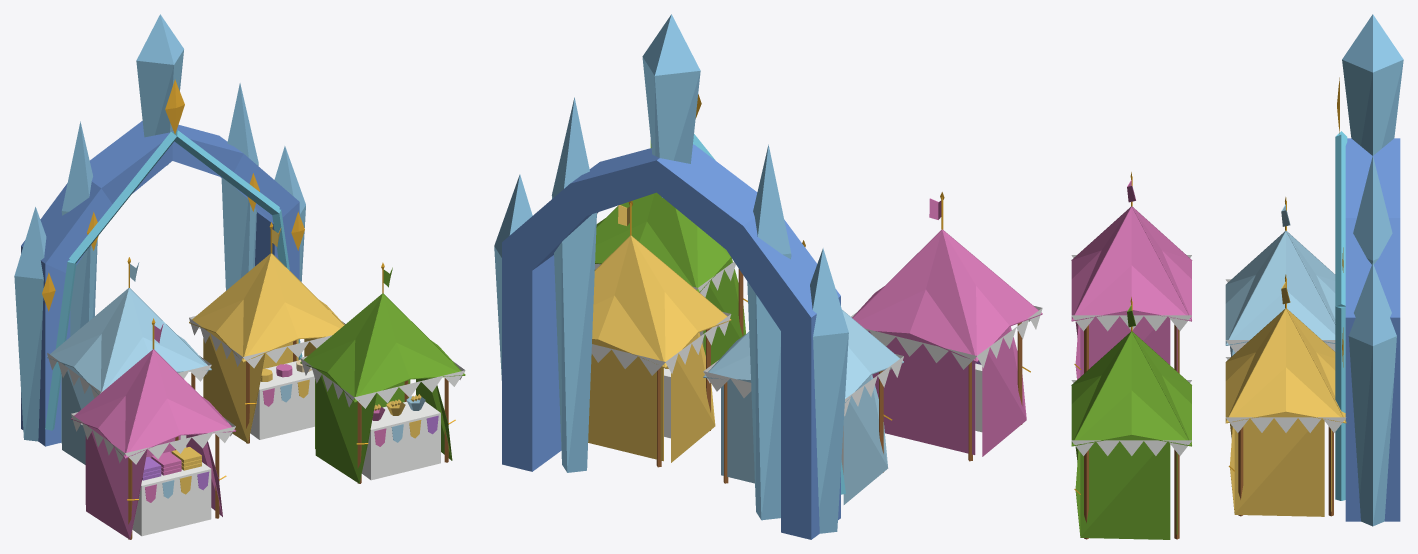
File: building.glb
3 views of the same model, side by side, from view 1: azimuth 30°, elevation 25°; view 2: azimuth 150°, elevation 25°; view 3: azimuth 270°, elevation 25° (orthographic). The views are drawn at different scales.
Visible parts, largest first — view 1: 06_R2B_Faire_IntegratedCrystalGate, 06_R2B_Faire_FoldedTent_0, 06_R2B_Faire_FoldedTent_1, 06_R2B_Faire_FoldedTent_3, 06_R2B_Faire_FoldedTent_2; view 2: 06_R2B_Faire_IntegratedCrystalGate, 06_R2B_Faire_FoldedTent_0, 06_R2B_Faire_FoldedTent_3, 06_R2B_Faire_FoldedTent_2, 06_R2B_Faire_FoldedTent_1; view 3: 06_R2B_Faire_IntegratedCrystalGate, 06_R2B_Faire_FoldedTent_1, 06_R2B_Faire_FoldedTent_3, 06_R2B_Faire_FoldedTent_0, 06_R2B_Faire_FoldedTent_2.
Part boxes in pixels (x1,y1,x2,y2): 06_R2B_Faire_IntegratedCrystalGate: (14, 14, 305, 446); 06_R2B_Faire_FoldedTent_0: (71, 318, 235, 539); 06_R2B_Faire_FoldedTent_1: (300, 262, 465, 483); 06_R2B_Faire_FoldedTent_3: (189, 222, 345, 443); 06_R2B_Faire_FoldedTent_2: (47, 257, 211, 464); 06_R2B_Faire_IntegratedCrystalGate: (494, 14, 848, 539); 06_R2B_Faire_FoldedTent_0: (851, 192, 1042, 461); 06_R2B_Faire_FoldedTent_3: (588, 201, 731, 467); 06_R2B_Faire_FoldedTent_2: (703, 240, 903, 504); 06_R2B_Faire_FoldedTent_1: (594, 140, 747, 365); 06_R2B_Faire_IntegratedCrystalGate: (1335, 14, 1403, 526); 06_R2B_Faire_FoldedTent_1: (1071, 297, 1191, 539); 06_R2B_Faire_FoldedTent_3: (1225, 274, 1346, 516); 06_R2B_Faire_FoldedTent_0: (1071, 172, 1192, 379); 06_R2B_Faire_FoldedTent_2: (1225, 197, 1335, 356).
Size of the model in its own units: 1.34 by 1.48 by 1.02.
